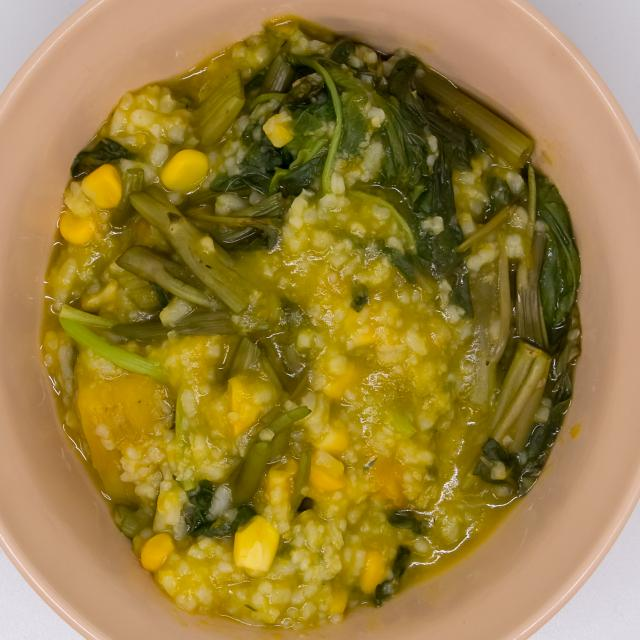Bubur-Manado: (34, 11, 588, 629)
